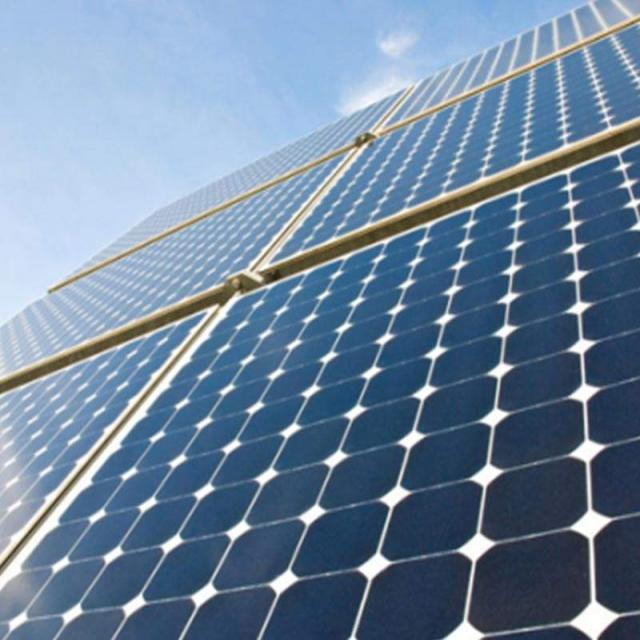no faulty: (4, 3, 640, 640)
